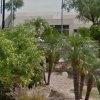Palm tree: (62, 31, 100, 98)
